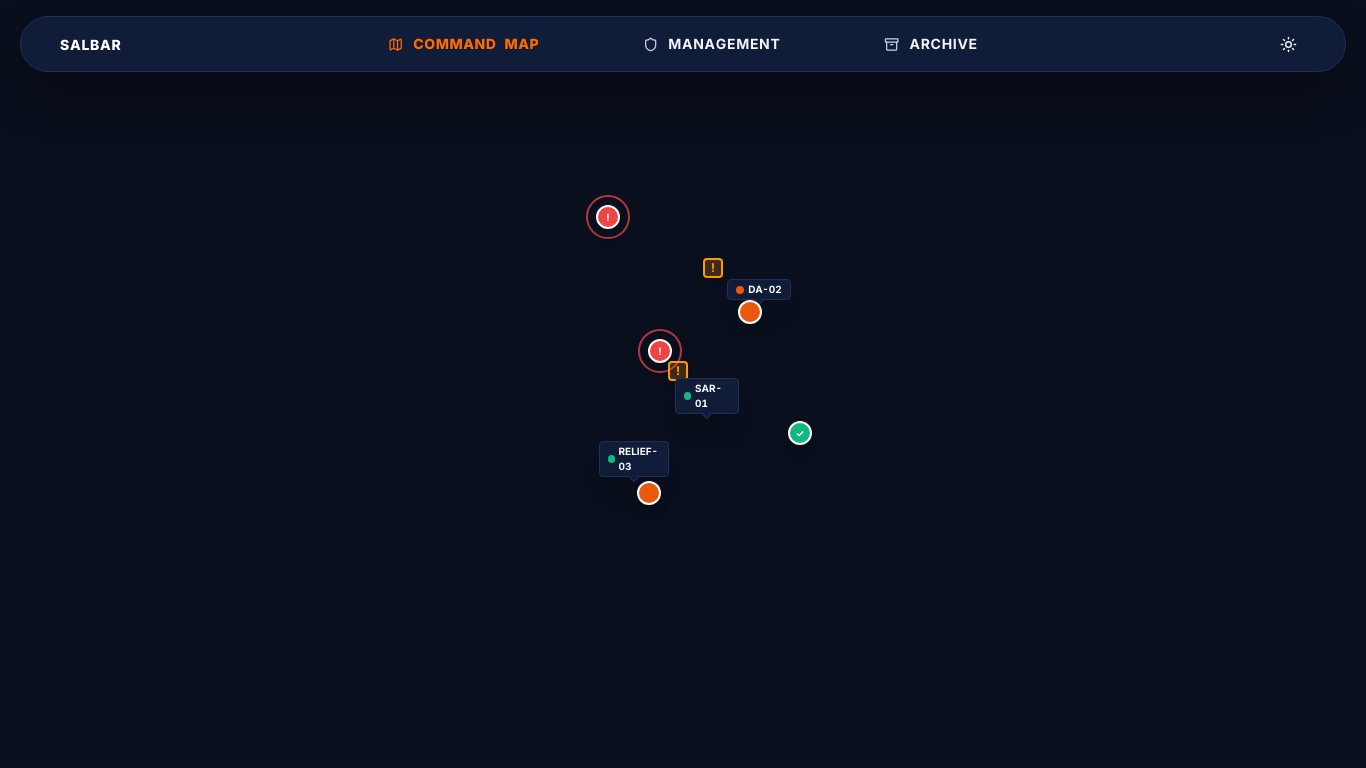
Test: Web Dashboard Screen Scaffolding › navigates to field responder fleet management screen
Click the button with test id "nav-tab-fleet-management": (712, 44) [631,28,793,60]
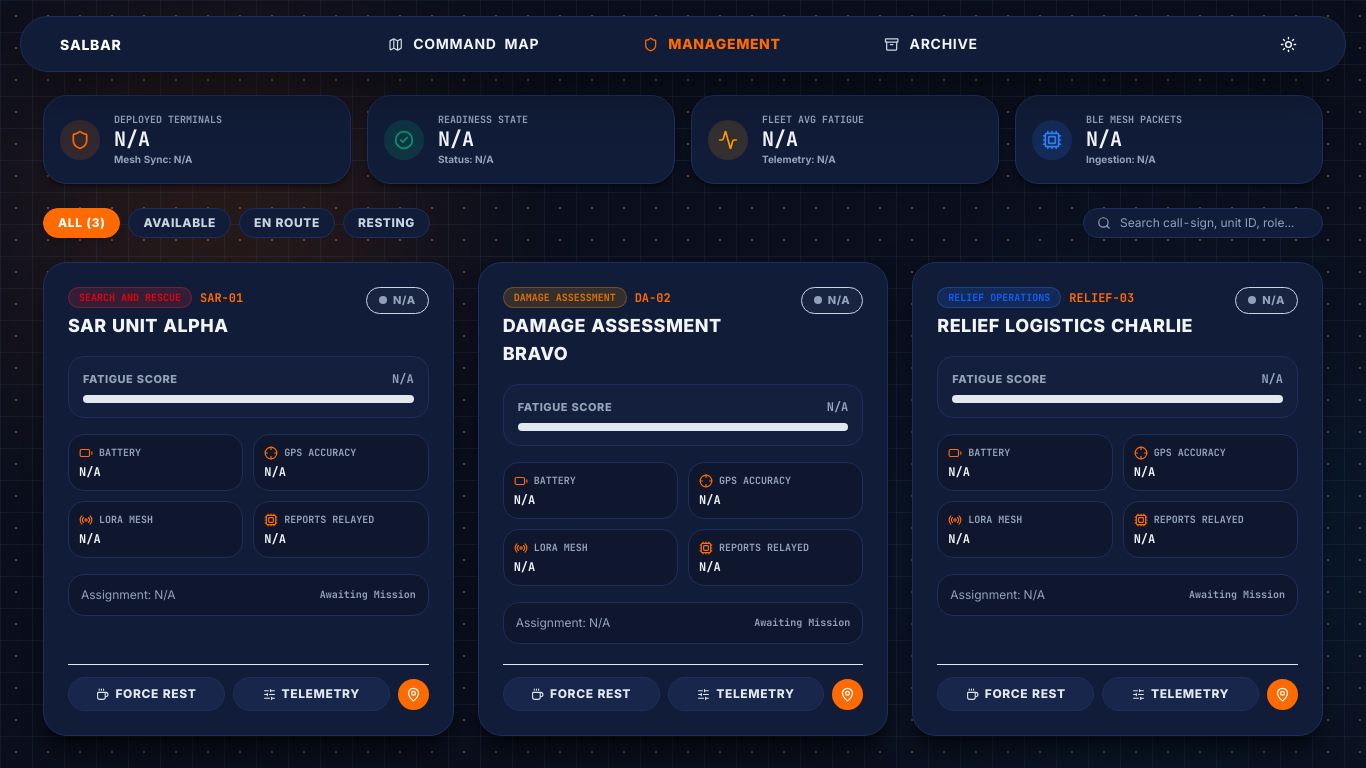
Check: the element with test id "screen-fleet-management" is shown
Check: the element with test id "responder-units-grid" is shown, box [43,262,1323,736]
Check: the element with test id "screen-command-map" is gone
